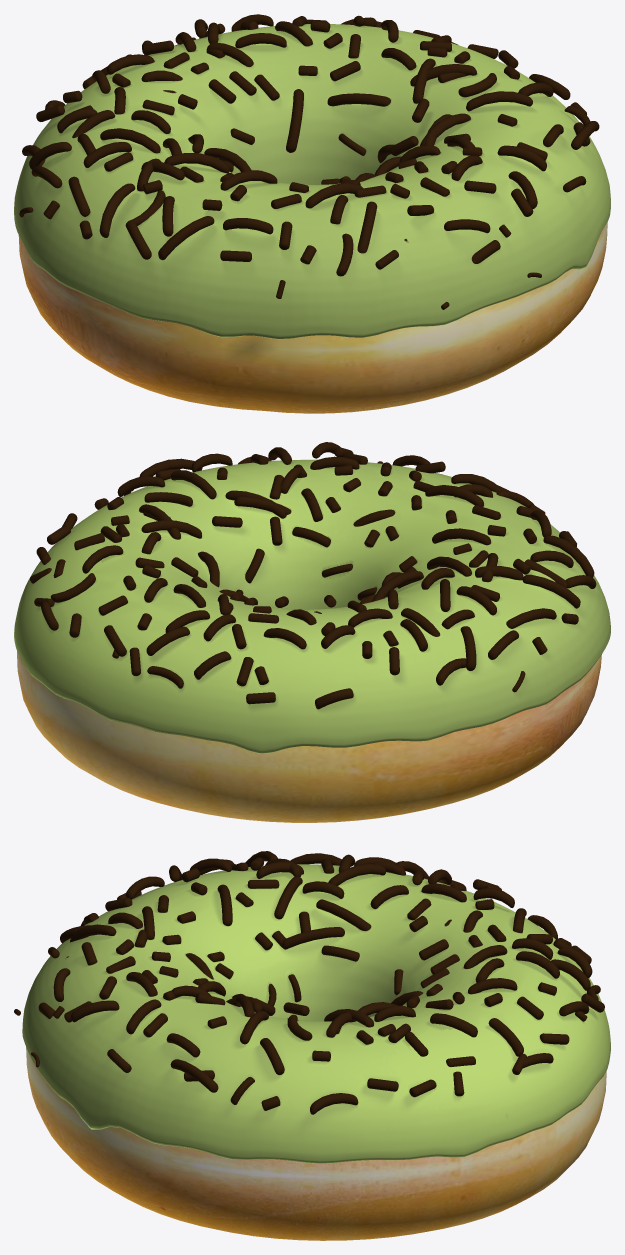
The model's file is pistachio chocolate  vermicheli.glb.
3 views of the same model, one above another, from view 1: azimuth 30°, elevation 25°; view 2: azimuth 150°, elevation 25°; view 3: azimuth 270°, elevation 25° (orthographic). The views are drawn at different scales.
Parts seen in each view (by area): view 1: coffee.001, pustachio, blue.002, Torus; view 2: pustachio, coffee.001, blue.002, Torus; view 3: pustachio, coffee.001, Torus, blue.002.
Part boxes in pixels (<box>): coffee.001: <box>14,24,610,338</box>; pustachio: <box>14,24,610,339</box>; blue.002: <box>19,14,599,309</box>; Torus: <box>18,222,607,413</box>; pustachio: <box>14,460,606,753</box>; coffee.001: <box>14,459,610,753</box>; blue.002: <box>30,442,596,709</box>; Torus: <box>17,651,601,822</box>; pustachio: <box>23,864,610,1163</box>; coffee.001: <box>22,864,610,1163</box>; Torus: <box>26,1047,606,1240</box>; blue.002: <box>14,851,604,1114</box>.
Bounding box in the file's own units: 0.1989 × 0.0773 × 0.2.
4 materials, 2 textured.
